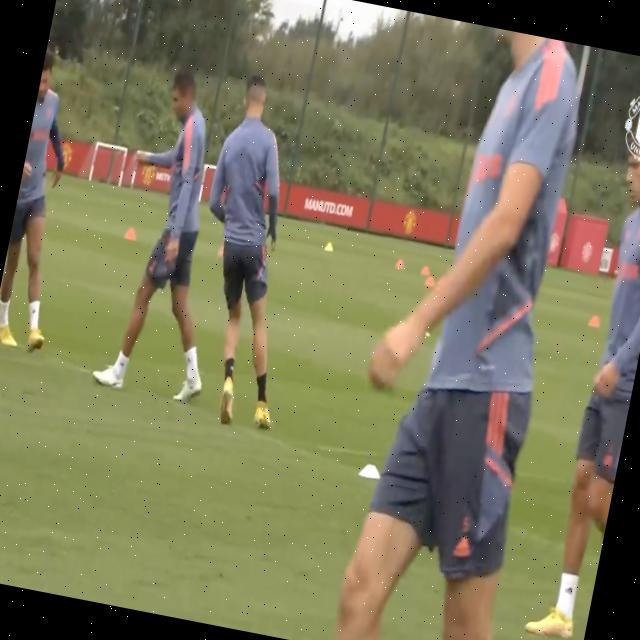Adidas: (452, 531, 475, 562), (562, 580, 577, 600)
